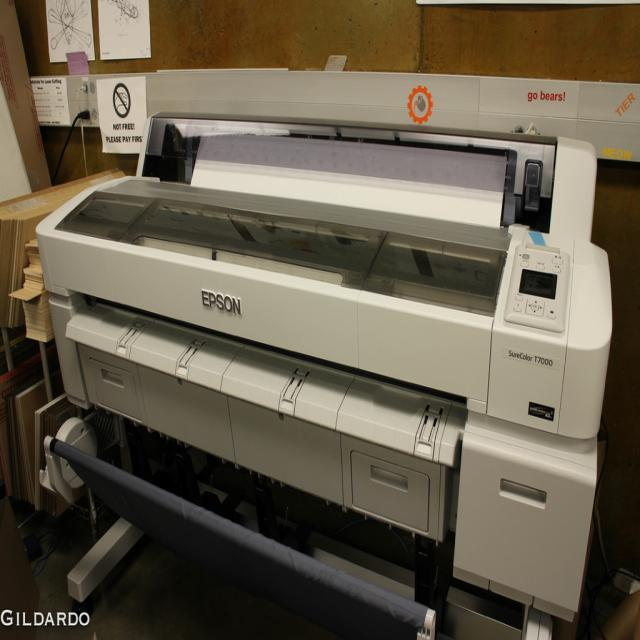printer: (44, 93, 631, 593)
